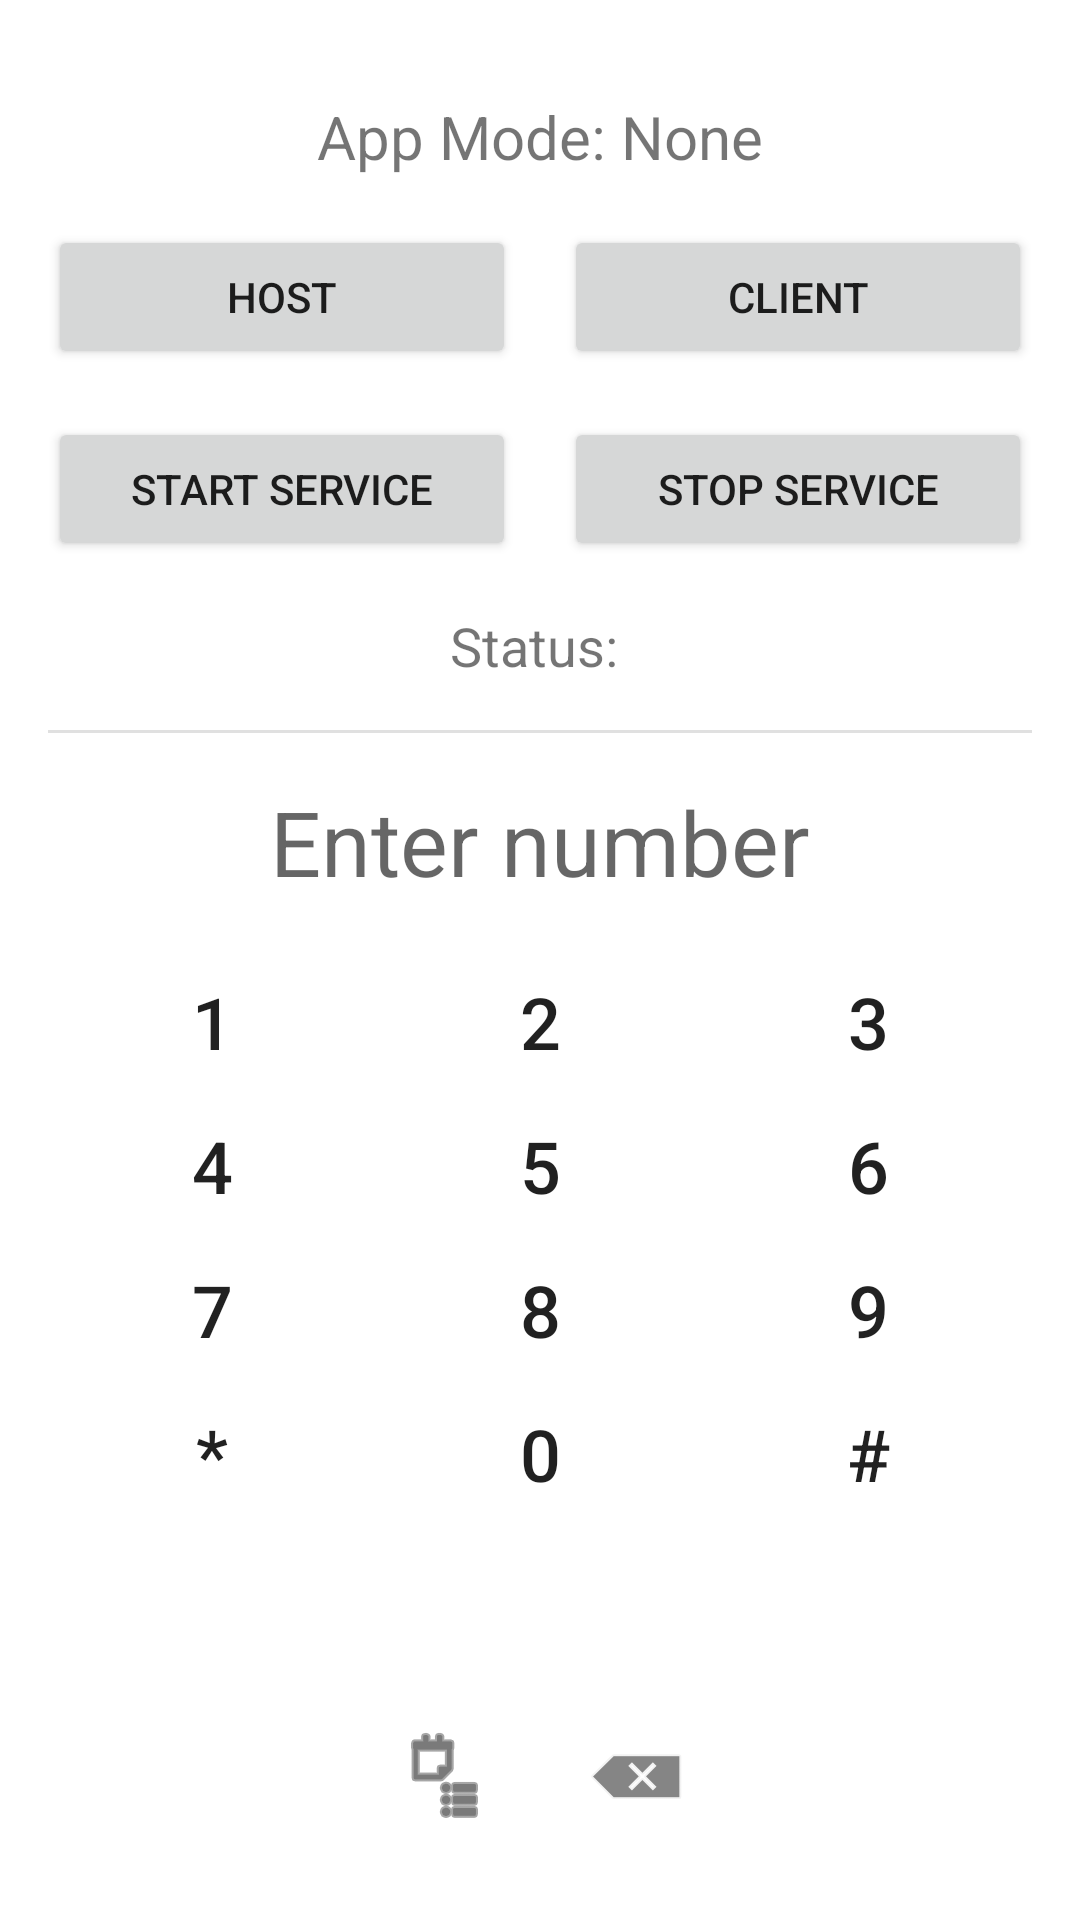

Screen size 1080 × 1920. Icon name, then its box in pixels as [x1, y1, x2, y2]:
Backspace: [593, 1756, 680, 1798]
